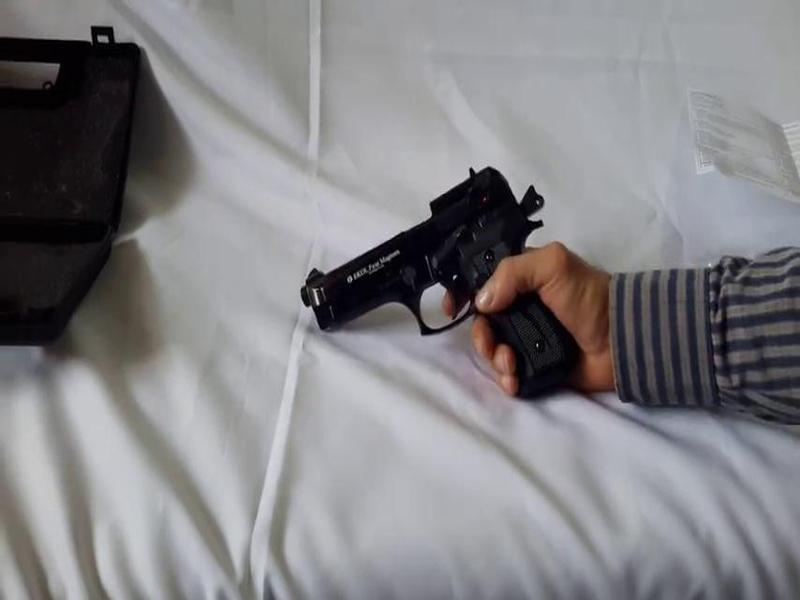Pistola: (297, 153, 586, 401)
